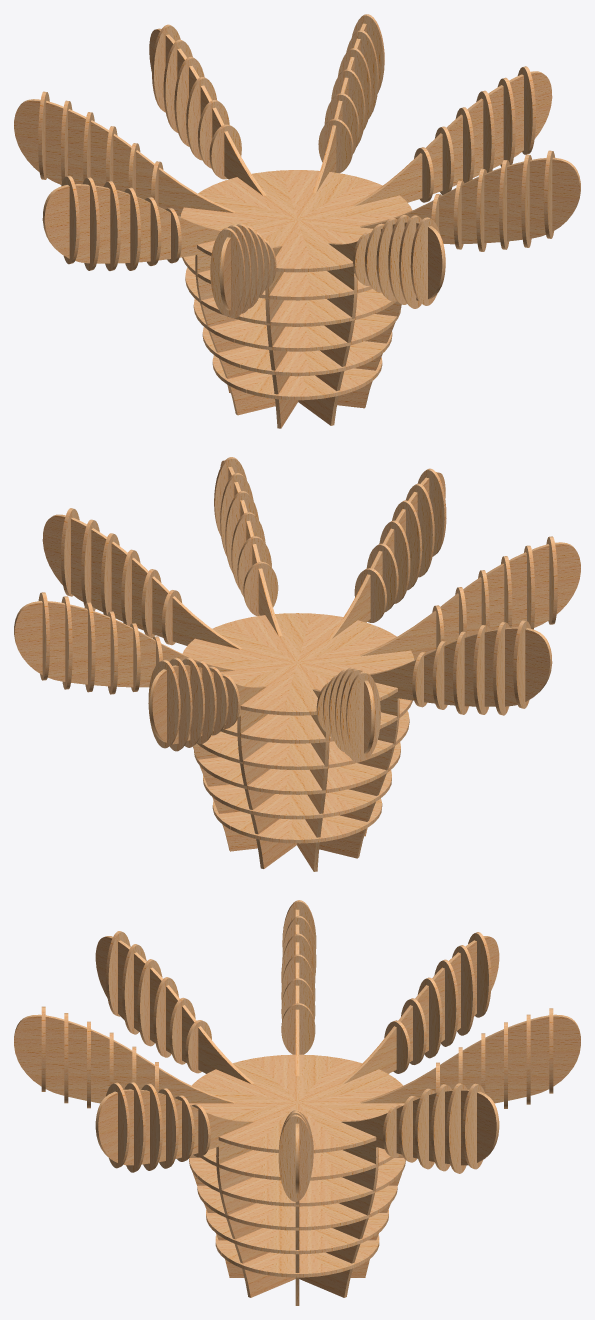
Rendered from wood-fern.glb.
The picture shows the model from 3 angles, top to bottom: view 1: azimuth 30°, elevation 25°; view 2: azimuth 150°, elevation 25°; view 3: azimuth 270°, elevation 25°; orthographic projection. The views are drawn at different scales.
Parts seen in each view (by area): view 1: unfinished_beech_2d; view 2: unfinished_beech_2d; view 3: unfinished_beech_2d.
Boxes of the visible parts, x1,y1,x2,y2 form: unfinished_beech_2d: (14,14,580,428); unfinished_beech_2d: (14,457,580,871); unfinished_beech_2d: (14,900,580,1305).
Bounding box in the file's own units: 0.3001 × 0.1571 × 0.3001.
1 material, 1 textured.
